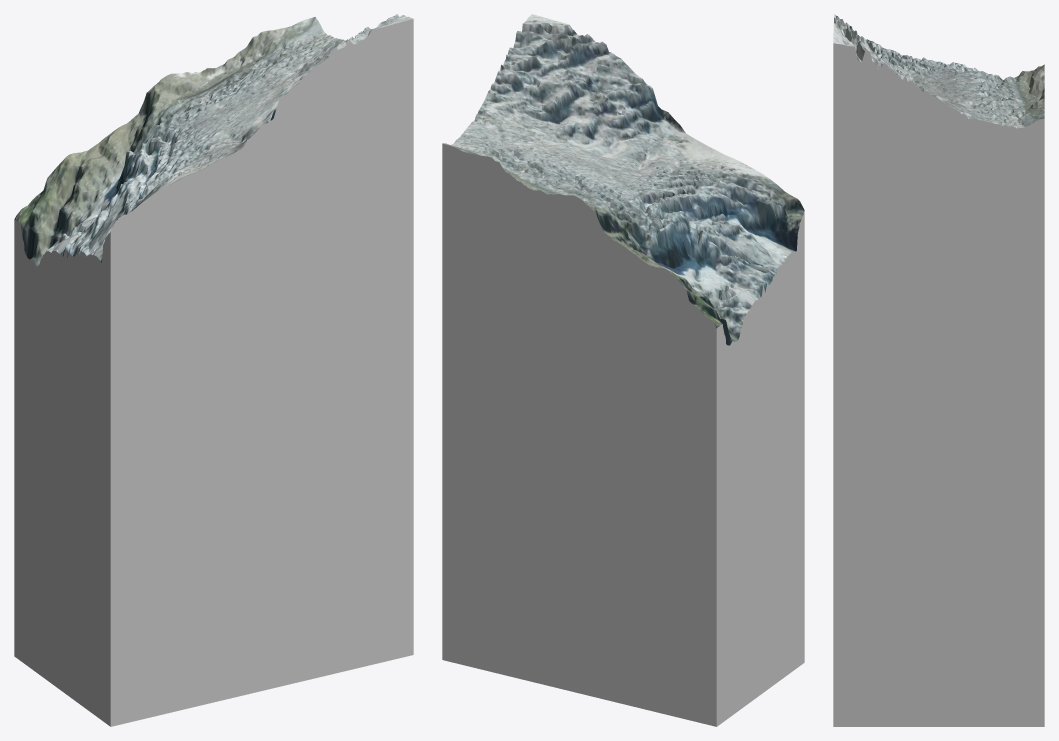
Rendered from GrindScene18.gltf.
The picture shows the model from 3 angles, left to right: view 1: azimuth 30°, elevation 25°; view 2: azimuth 150°, elevation 25°; view 3: azimuth 270°, elevation 25°; orthographic projection. The views are drawn at different scales.
Visible parts, largest first — view 1: Plane; view 2: Plane; view 3: Plane.
Boxes of the visible parts, <box> form: Plane: <box>14,14,413,726</box>; Plane: <box>442,14,804,726</box>; Plane: <box>833,14,1044,726</box>.
Size of the model in its own units: 0.6 by 1.21 by 0.3398.
2 materials, 1 textured.
